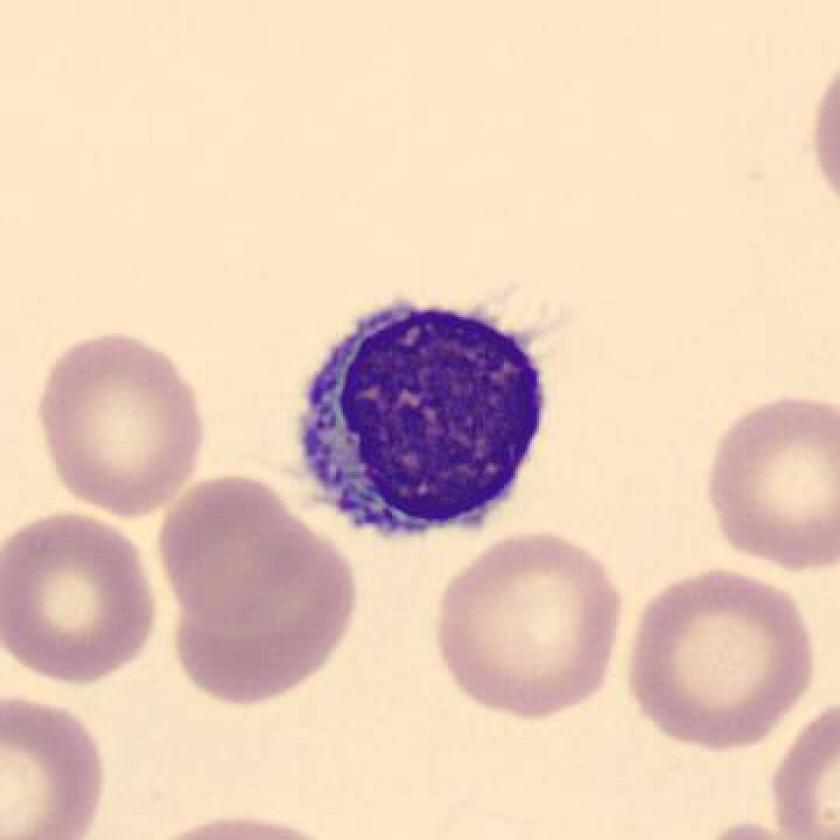lymphocyte: (286, 283, 570, 561)
